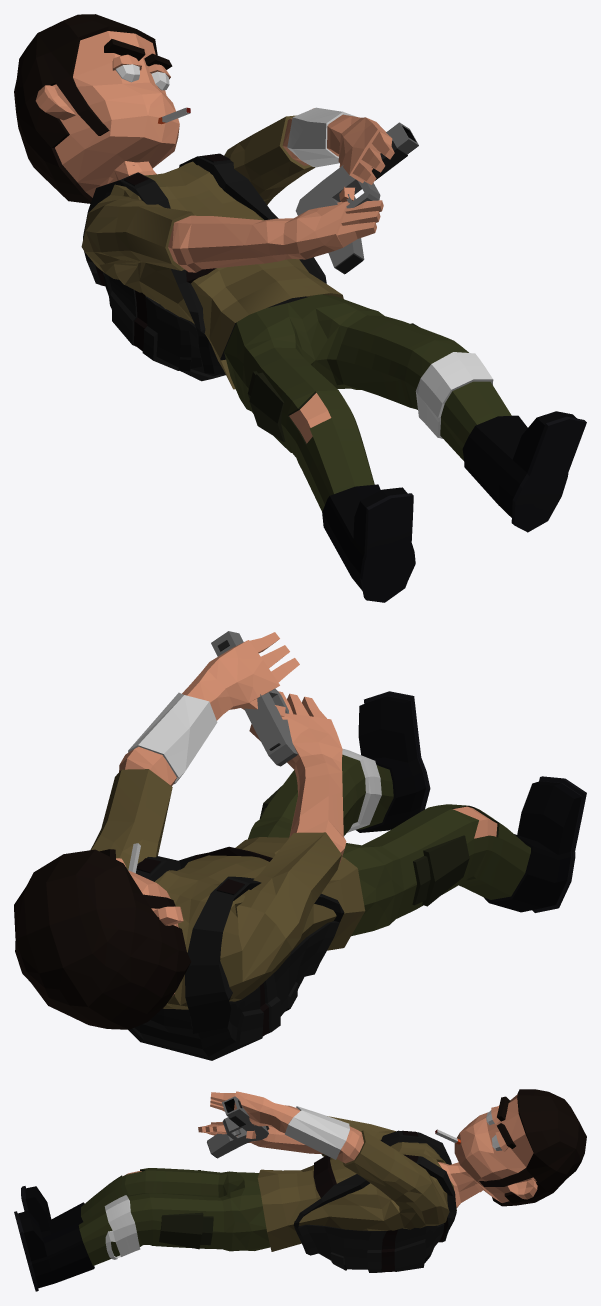
The model's file is frame_0073.obj.
3 views of the same model, one above another, from view 1: azimuth 30°, elevation 25°; view 2: azimuth 150°, elevation 25°; view 3: azimuth 270°, elevation 25° (orthographic). The views are drawn at different scales.
Parts seen in each view (by area): view 1: Body, Gun; view 2: Body, Gun; view 3: Body, Gun.
Part boxes in pixels (x1=…): Body: x1=14, y1=14, x2=586, y2=602; Gun: x1=295, y1=122, x2=418, y2=274; Body: x1=14, y1=632, x2=586, y2=1060; Gun: x1=211, y1=631, x2=297, y2=766; Body: x1=14, y1=1089, x2=586, y2=1291; Gun: x1=207, y1=1096, x2=269, y2=1158.
Size of the model in its own units: 1.22 by 1.82 by 4.16.
